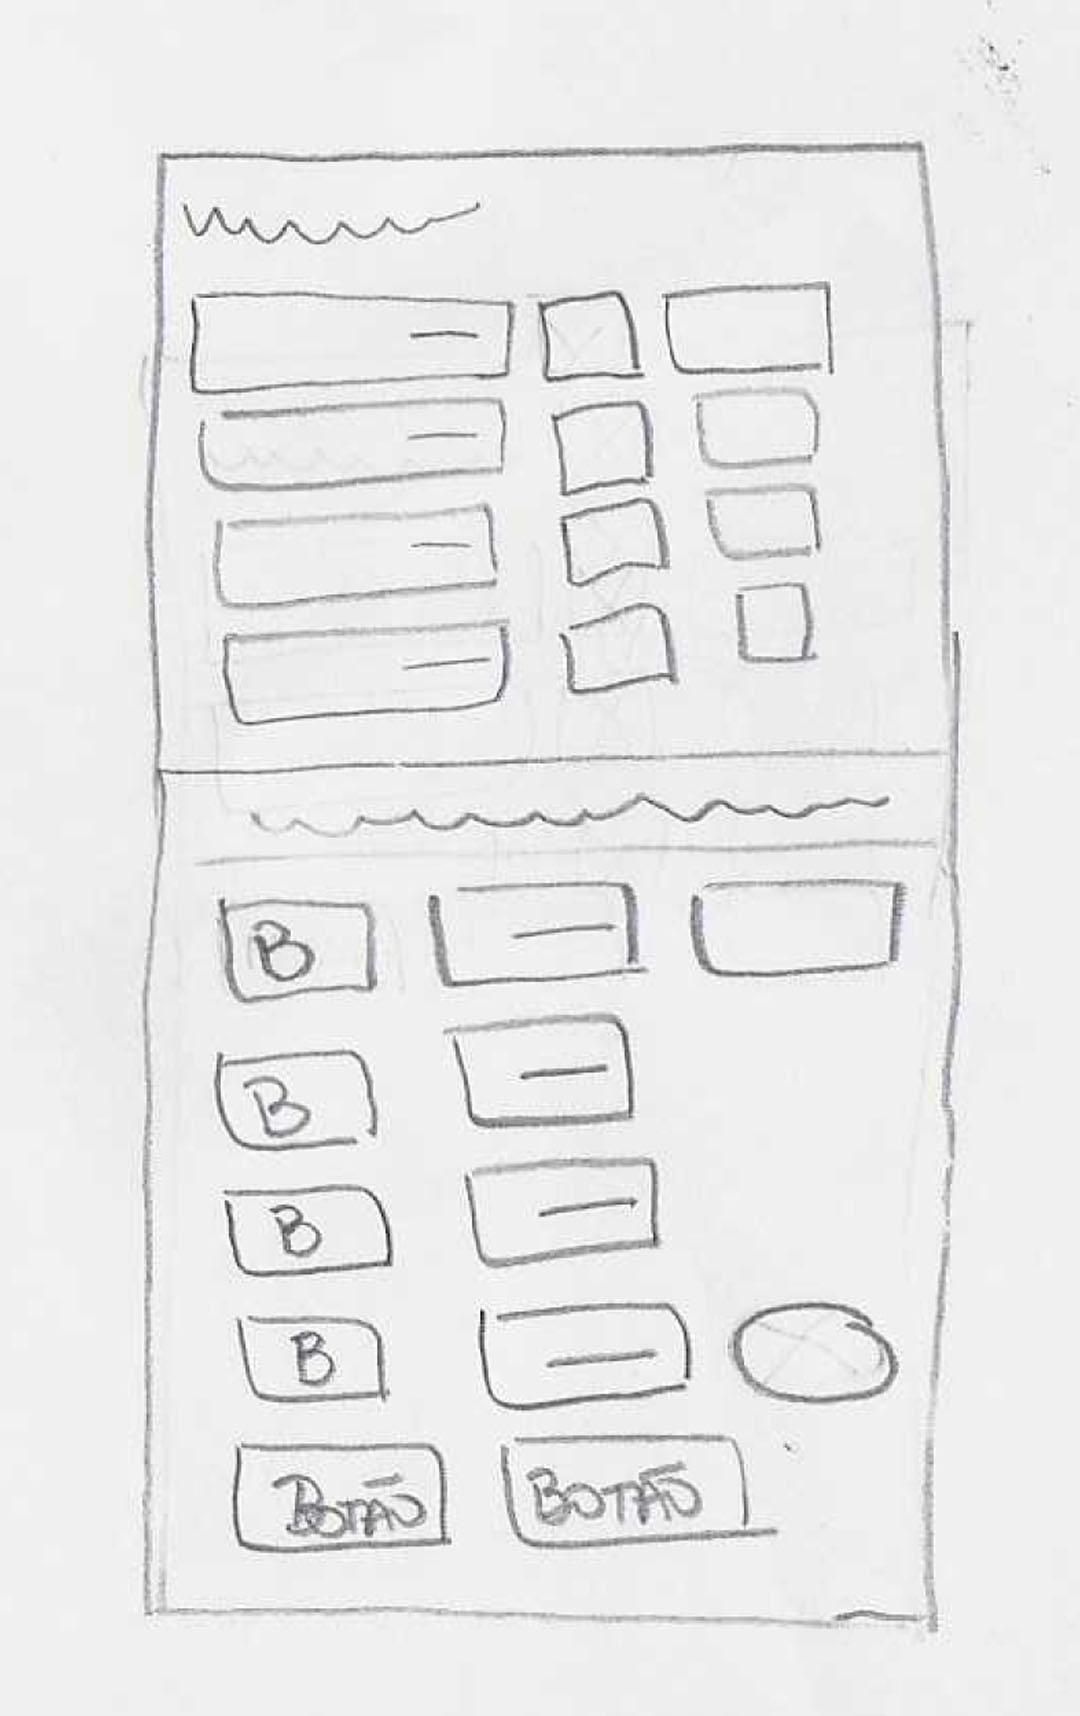Button: (501, 1431, 748, 1548), (233, 1445, 449, 1547), (737, 1303, 901, 1412), (216, 1047, 377, 1152), (215, 901, 377, 1002), (225, 1181, 389, 1275), (236, 1315, 387, 1406)
Label: (248, 784, 901, 845), (178, 192, 484, 240)
Screen: (142, 142, 958, 1624)
TextBox: (188, 292, 511, 394), (224, 620, 511, 724), (214, 505, 499, 610), (200, 397, 508, 492), (429, 880, 645, 988), (463, 1159, 667, 1267), (470, 1309, 691, 1409), (694, 880, 906, 977), (455, 1017, 633, 1127), (664, 284, 837, 378), (698, 388, 821, 473), (564, 602, 674, 693), (561, 497, 667, 585), (552, 401, 653, 492), (705, 488, 822, 560), (544, 292, 638, 380), (733, 582, 816, 666)
